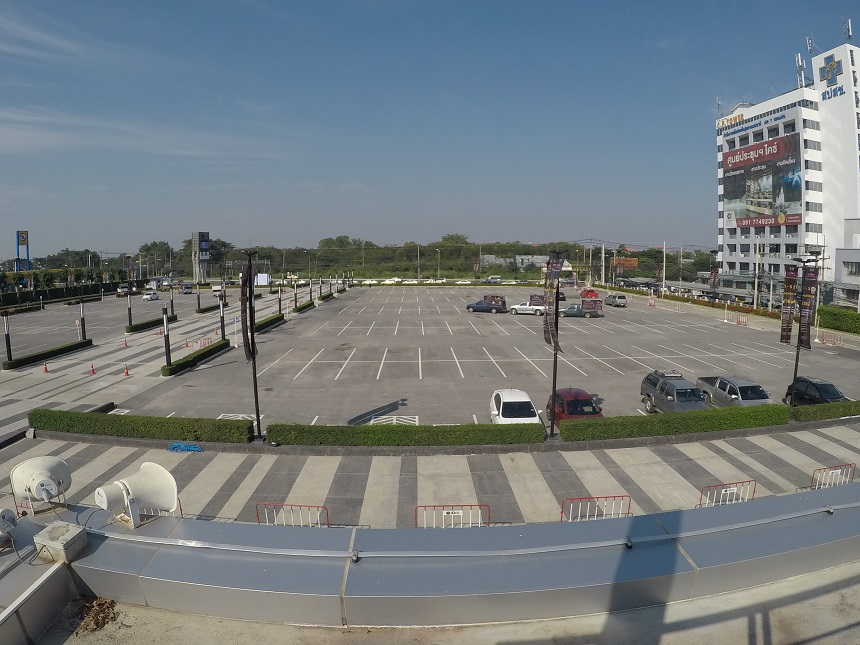busy: (790, 374, 842, 405), (719, 377, 765, 410), (553, 382, 600, 413), (648, 386, 705, 411), (491, 397, 536, 420)
